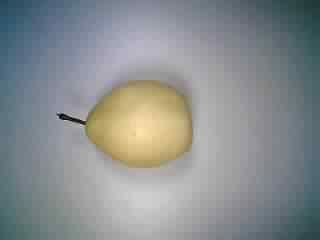pear: (51, 68, 203, 176)
